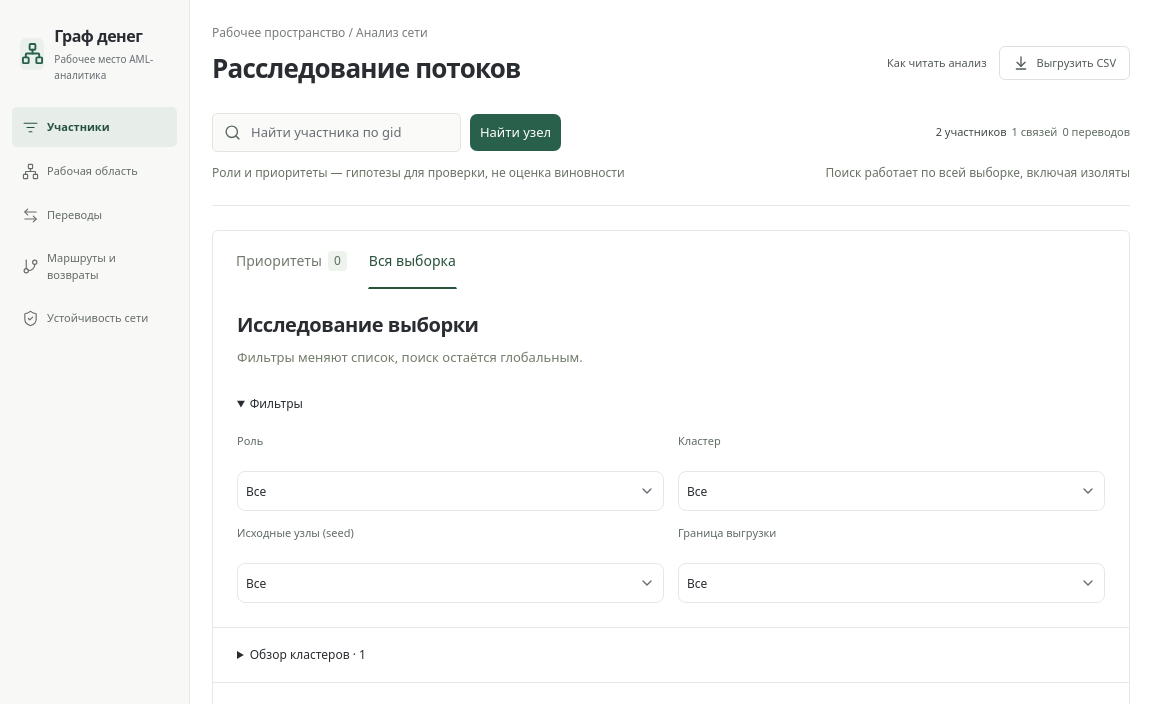
workspace navigation exposes actual aggregate transfers and adjacent evidence without invented dates
Expected: the field named "Поиск по gid" is shown, [212,112,461,152]
Click the button "Переводы" at coordinates (94, 215), box [12,195,177,235]
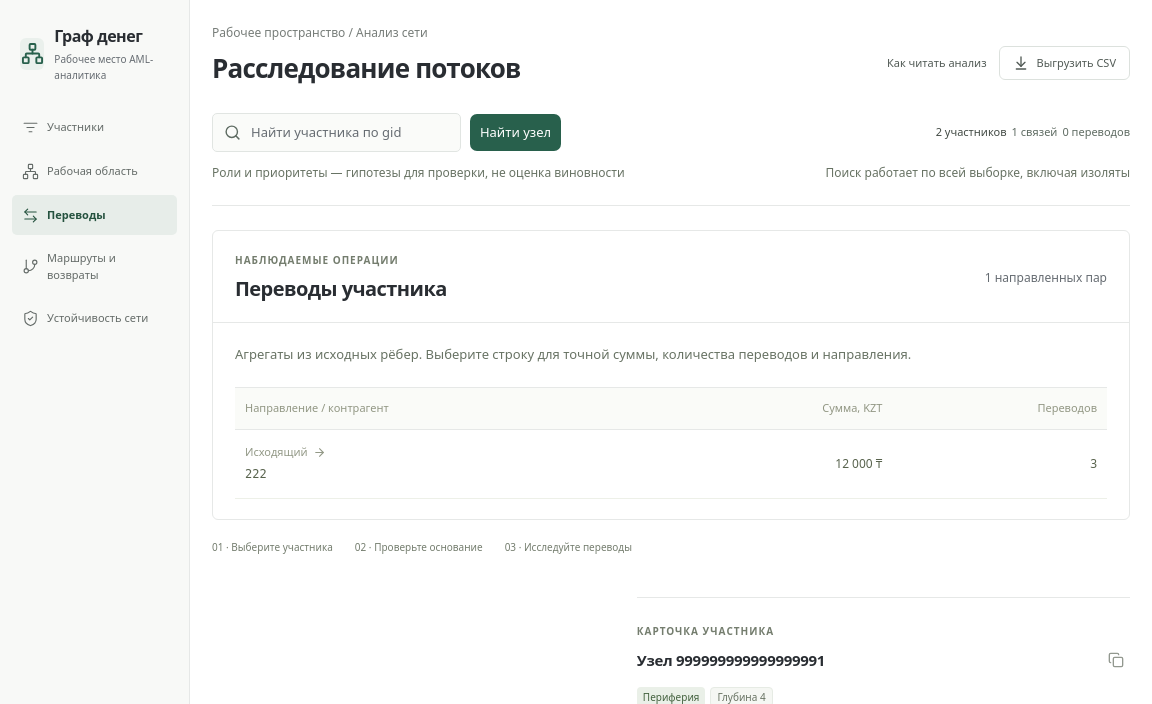
Click the button "Исходящий 222" at coordinates (276, 451), box [245,444,666,484]
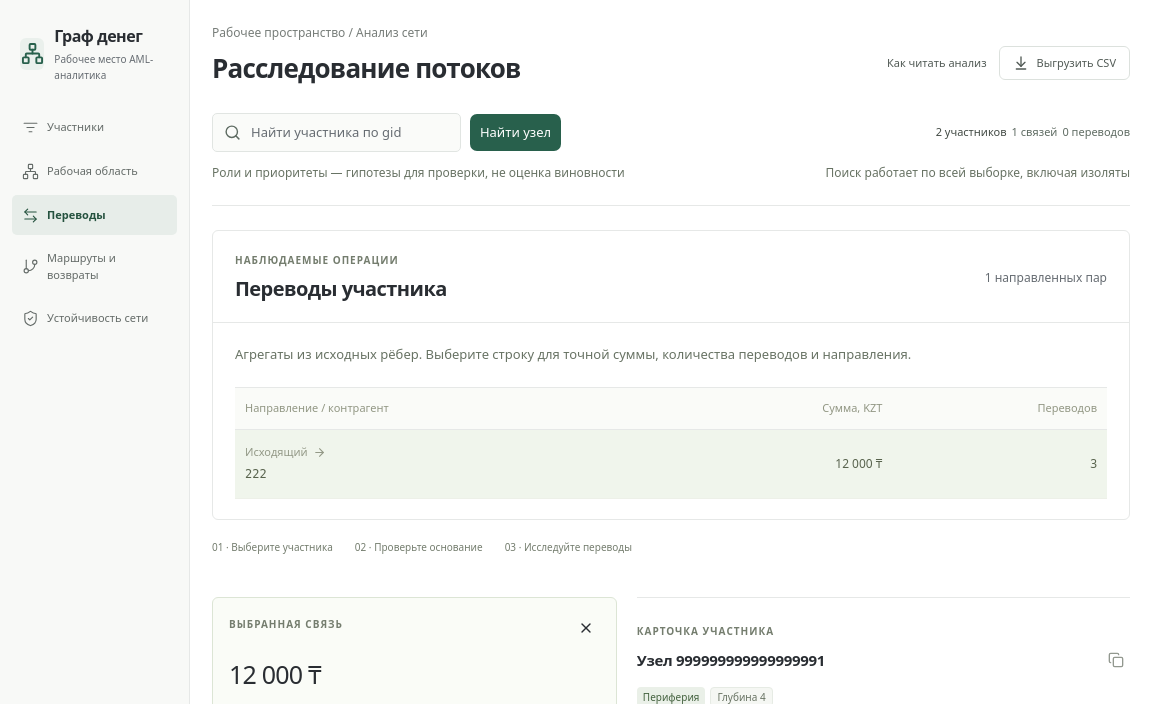
Click the button named "Закрыть данные связи" at coordinates (586, 628), box [572,614,600,642]
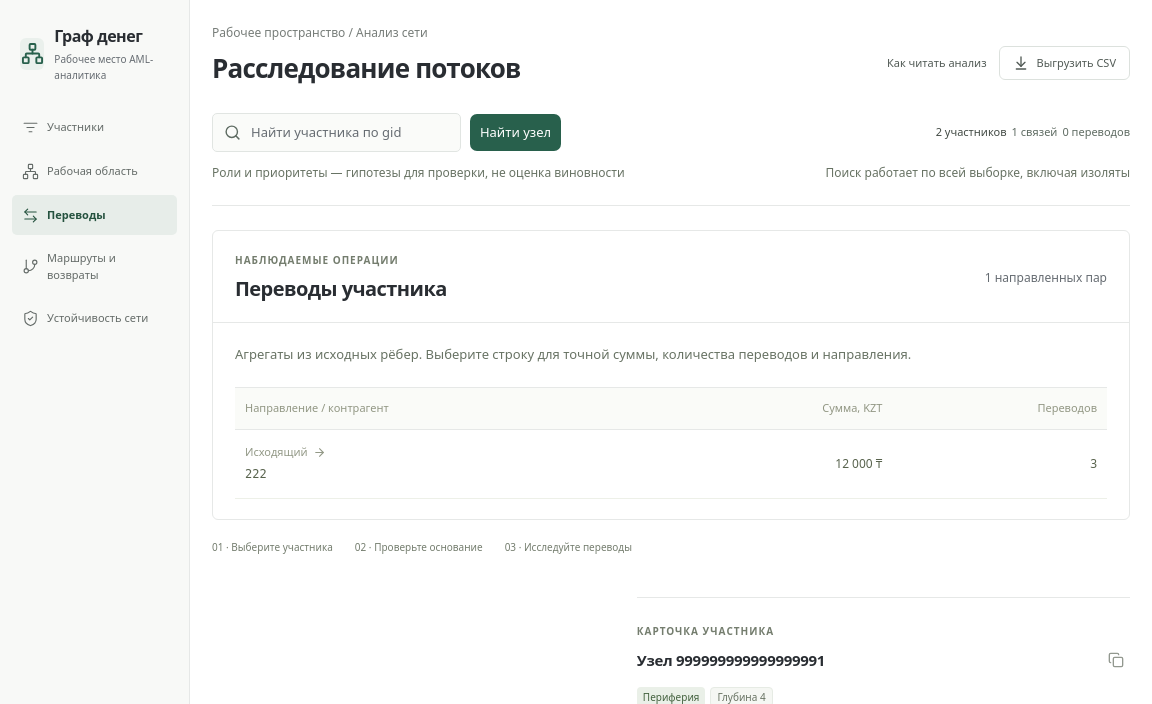
Click the button "Маршруты и возвраты" at coordinates (94, 266), box [12,239,177,294]
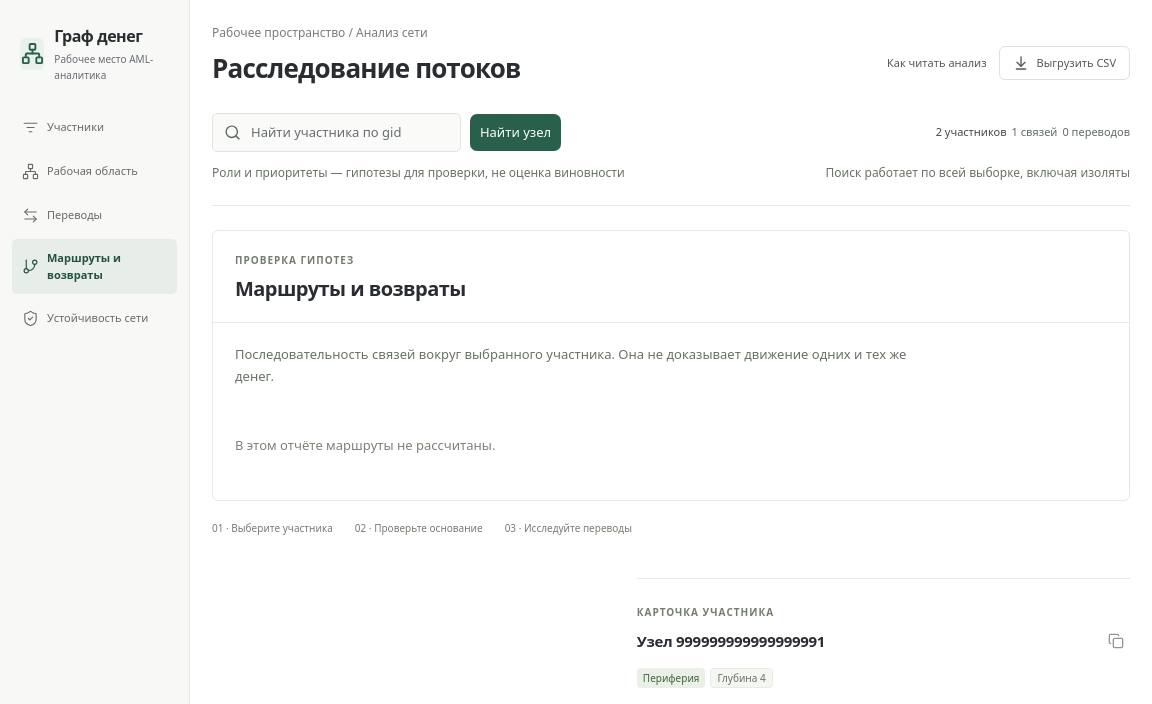
Result: the text "В этом отчёте маршруты не рассчитаны." is shown at [235,436,495,454]
Click the button "Устойчивость сети" at coordinates (94, 318), box [12,298,177,338]
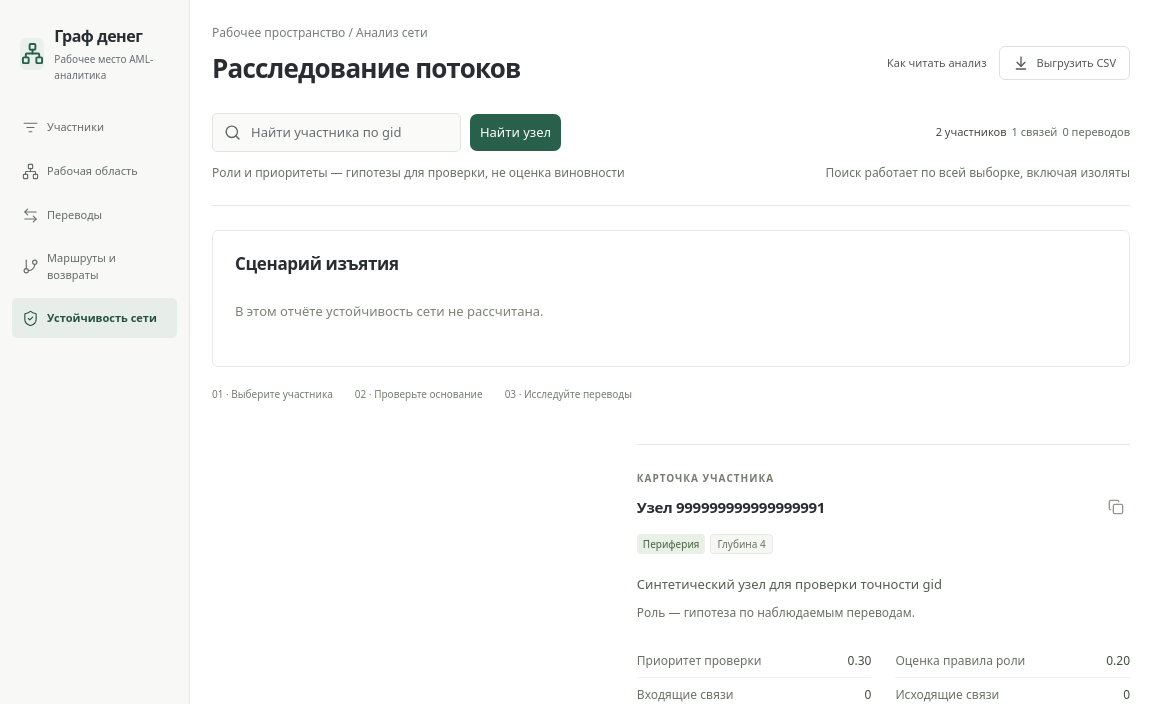
Result: the text "В этом отчёте устойчивость сети не рассчитана." is shown at [235,302,544,320]
